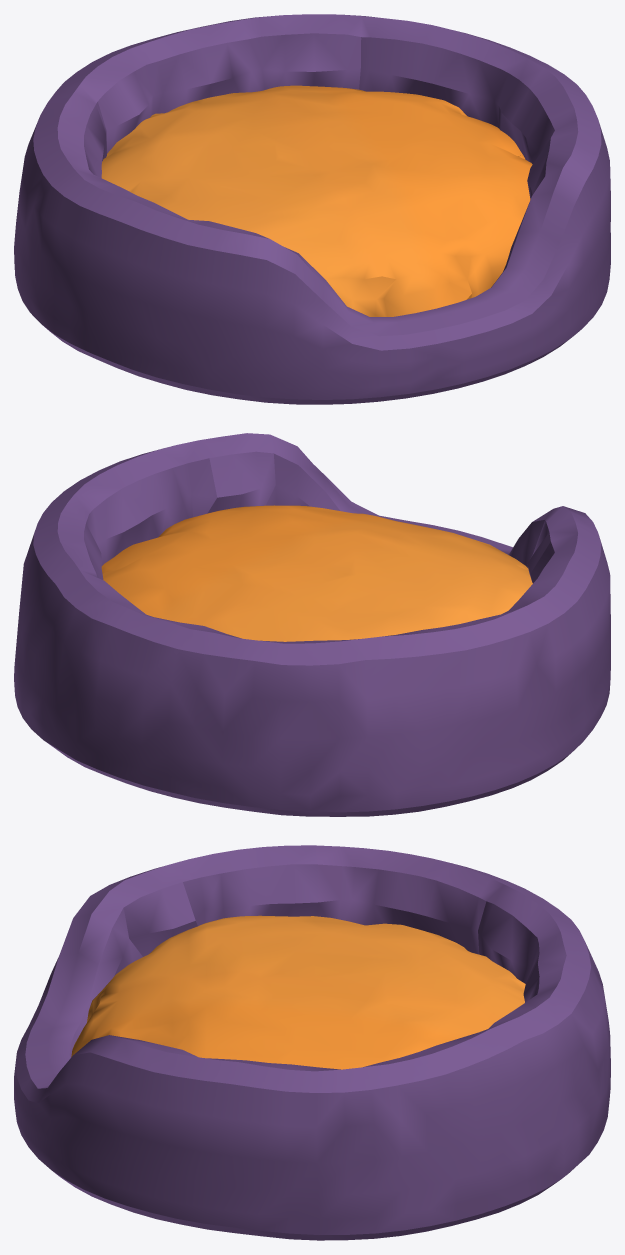
The model's file is Cat Bed.fbx.
3 views of the same model, one above another, from view 1: azimuth 30°, elevation 25°; view 2: azimuth 150°, elevation 25°; view 3: azimuth 270°, elevation 25° (orthographic).
Parts seen in each view (by area): view 1: Cat_Bed, Cat_Bed_Default_Color; view 2: Cat_Bed, Cat_Bed_Default_Color; view 3: Cat_Bed, Cat_Bed_Default_Color.
Part boxes in pixels (bbox=[...]): Cat_Bed: bbox=[14, 14, 610, 404]; Cat_Bed_Default_Color: bbox=[101, 85, 532, 316]; Cat_Bed: bbox=[14, 433, 610, 816]; Cat_Bed_Default_Color: bbox=[101, 505, 532, 641]; Cat_Bed: bbox=[14, 845, 610, 1240]; Cat_Bed_Default_Color: bbox=[71, 915, 525, 1069].
Bounding box in the file's own units: 71.36 × 22.01 × 70.72.
Materials: 1 (1 with a texture image).
